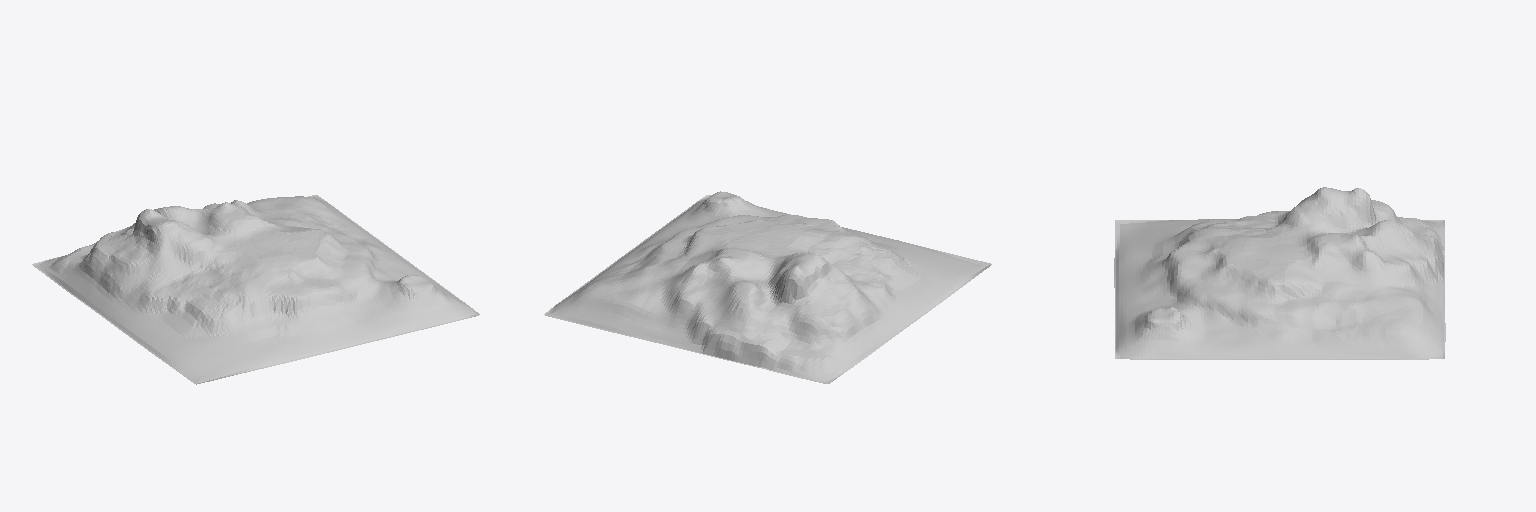
The model's file is land0.obj.
3 renders of one model, left to right at view 1: azimuth 30°, elevation 25°; view 2: azimuth 150°, elevation 25°; view 3: azimuth 270°, elevation 25°, orthographic.
Visible parts, largest first — view 1: Grid_Grid.001; view 2: Grid_Grid.001; view 3: Grid_Grid.001.
Part boxes in pixels (left/top/right/bottom): Grid_Grid.001: left=32, top=195, right=479, bottom=384; Grid_Grid.001: left=544, top=191, right=991, bottom=383; Grid_Grid.001: left=1114, top=187, right=1445, bottom=359.
Bounding box in the file's own units: 9900 × 2319 × 9901.